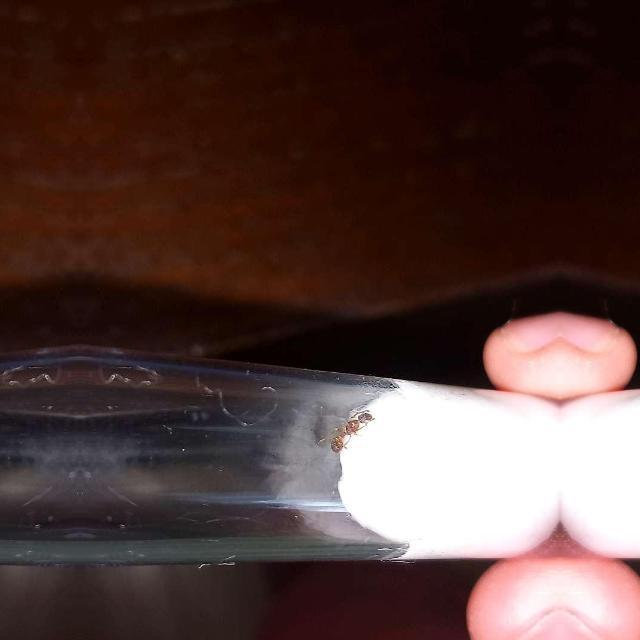Myrmica: (330, 406, 370, 458)
